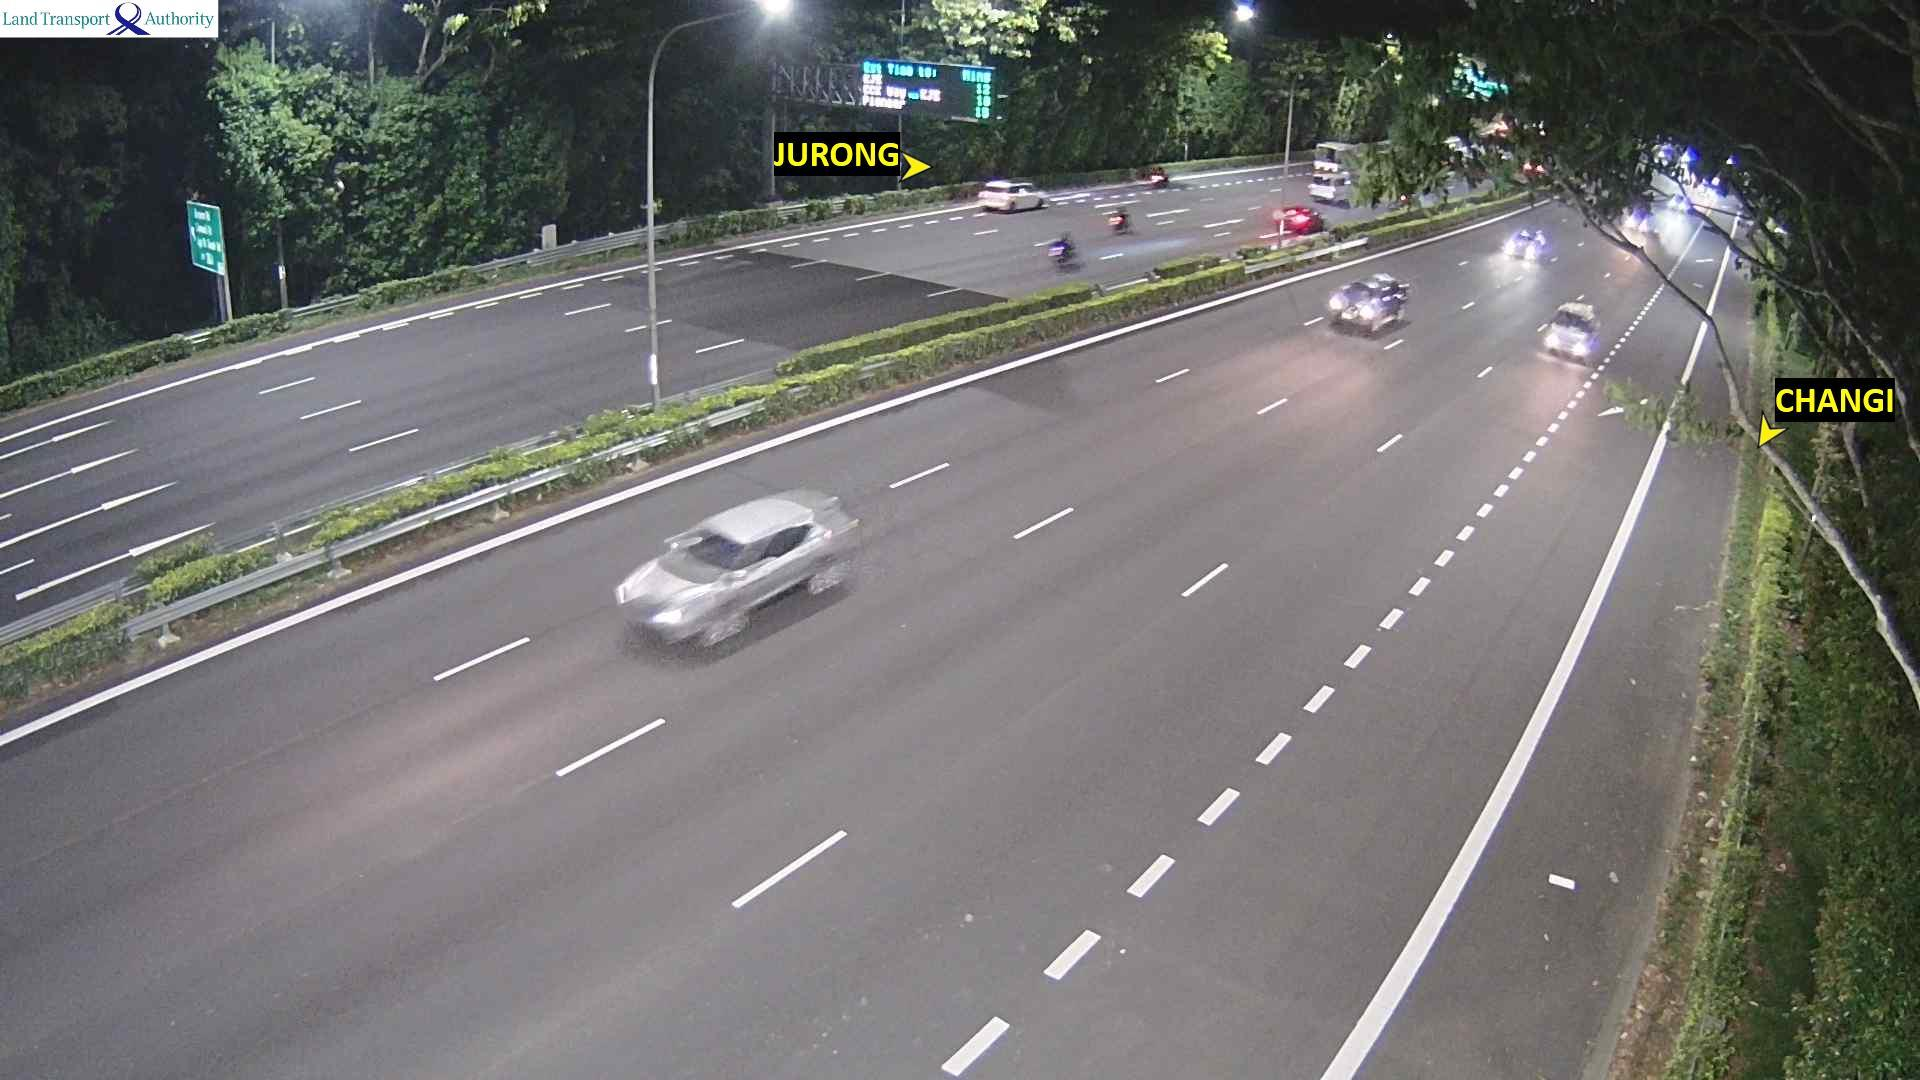incoming: (609, 533, 754, 655), (1328, 281, 1386, 343), (1543, 306, 1596, 365), (1505, 232, 1543, 262), (1626, 210, 1658, 232), (1667, 195, 1689, 211)
